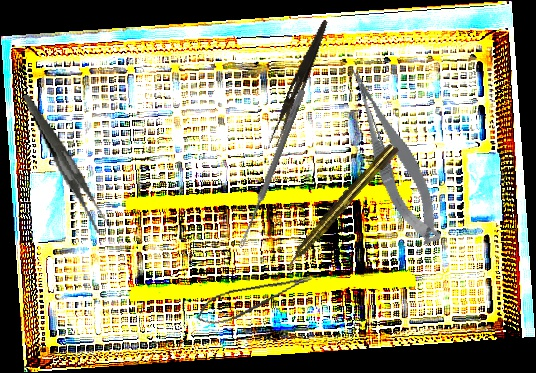Dressing Forceps: (22, 83, 112, 243), (268, 17, 330, 149)
Handpiece: (279, 140, 402, 274)
Micro Scissor: (343, 59, 447, 252), (192, 271, 317, 330)
Surgical Spoon: (237, 88, 306, 250)
